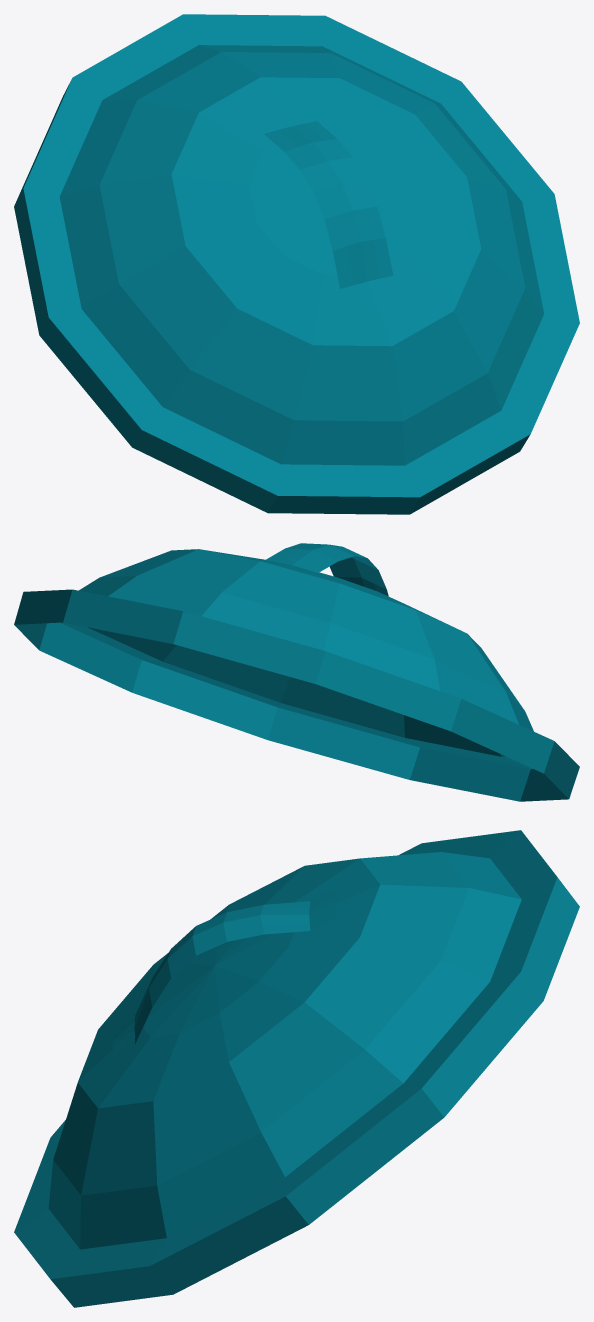
Rendered from container_B_lid.FBX.
3 views of the same model, one above another, from view 1: azimuth 30°, elevation 25°; view 2: azimuth 150°, elevation 25°; view 3: azimuth 270°, elevation 25° (orthographic). The views are drawn at different scales.
Visible parts, largest first — view 1: container_B_lid; view 2: container_B_lid; view 3: container_B_lid.
Part boxes in pixels (bbox=[...]): container_B_lid: bbox=[14, 14, 579, 514]; container_B_lid: bbox=[14, 543, 579, 801]; container_B_lid: bbox=[14, 830, 579, 1307].
Bounding box in the file's own units: 55.86 × 35.31 × 47.18.
